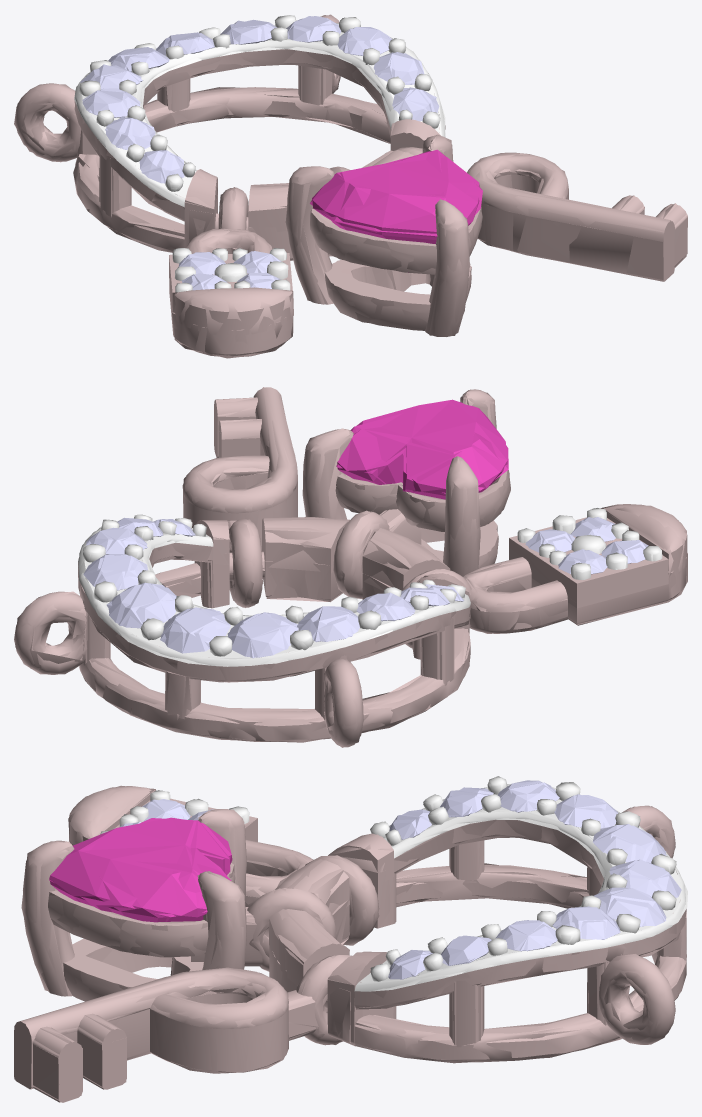
The model's file is DCP-D000733366.glb.
3 views of the same model, one above another, from view 1: azimuth 30°, elevation 25°; view 2: azimuth 150°, elevation 25°; view 3: azimuth 270°, elevation 25° (orthographic). The views are drawn at different scales.
Visible parts, largest first — view 1: highPolyMesh, lowPolyMesh; view 2: highPolyMesh, lowPolyMesh; view 3: highPolyMesh, lowPolyMesh.
Boxes of the visible parts, bbox=[...] form: highPolyMesh: bbox=[15, 15, 687, 356]; lowPolyMesh: bbox=[14, 14, 687, 358]; highPolyMesh: bbox=[14, 387, 687, 747]; lowPolyMesh: bbox=[15, 387, 687, 747]; highPolyMesh: bbox=[14, 777, 686, 1102]; lowPolyMesh: bbox=[14, 776, 687, 1102].
Bounding box in the file's own units: 0.0127 × 0.00345 × 0.0139.
